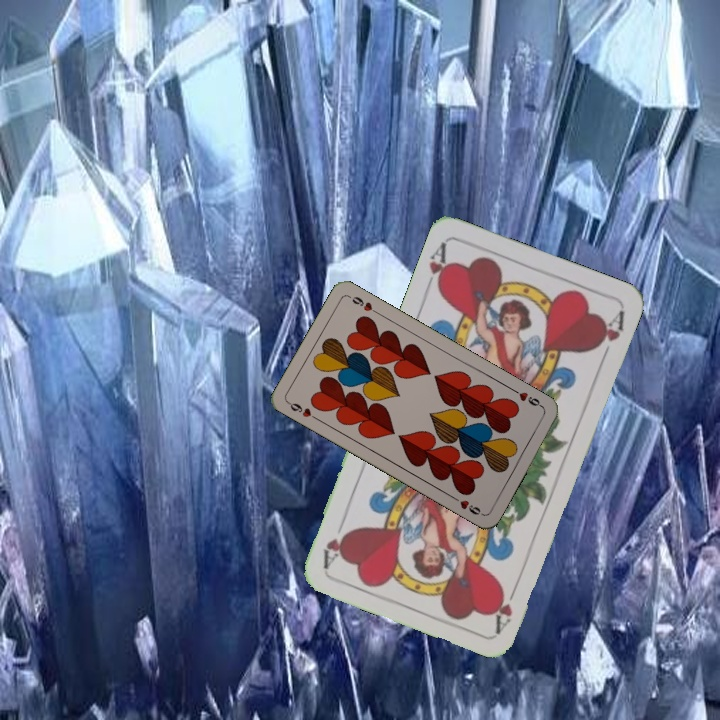H9: (509, 385, 546, 411), (284, 398, 321, 423)
HA: (420, 238, 453, 296), (490, 577, 522, 634)
